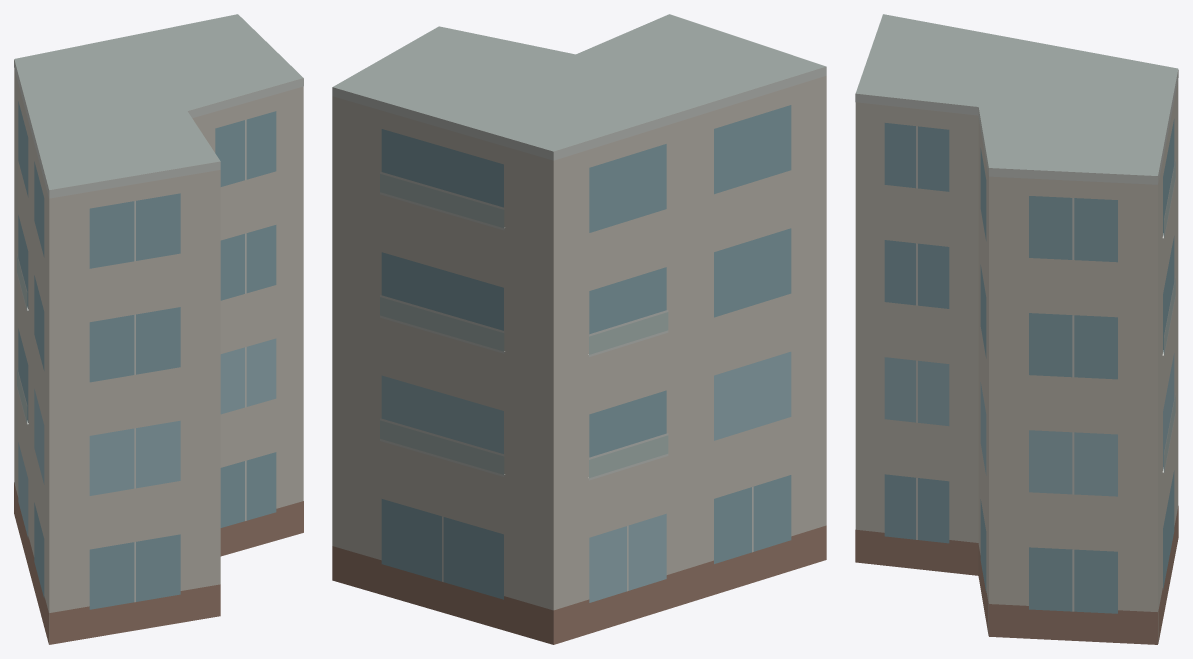
The model's file is survey-upis-32895200.glb.
3 views of the same model, side by side, from view 1: azimuth 30°, elevation 25°; view 2: azimuth 150°, elevation 25°; view 3: azimuth 270°, elevation 25° (orthographic). The views are drawn at different scales.
Visible parts, largest first — view 1: survey-upis-32895200.tmp; view 2: survey-upis-32895200.tmp; view 3: survey-upis-32895200.tmp.
Boxes of the visible parts, x1,y1,x2,y2 form: survey-upis-32895200.tmp: (14,14,303,644); survey-upis-32895200.tmp: (332,14,826,644); survey-upis-32895200.tmp: (855,14,1178,644).
Size of the model in its own units: 9.8 by 13.2 by 8.25.
